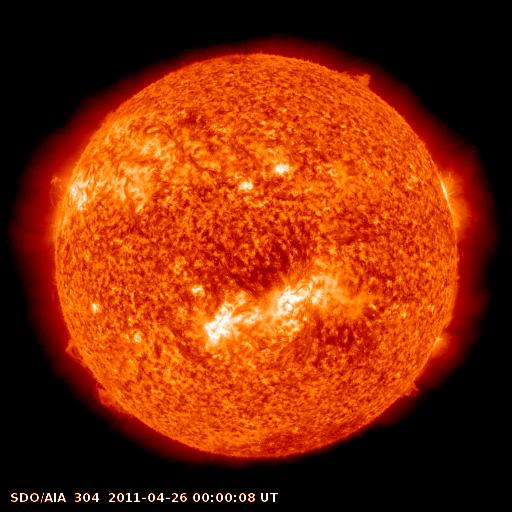prominence: (86, 382, 142, 425), (56, 334, 107, 378), (336, 56, 379, 97), (386, 376, 424, 410)
